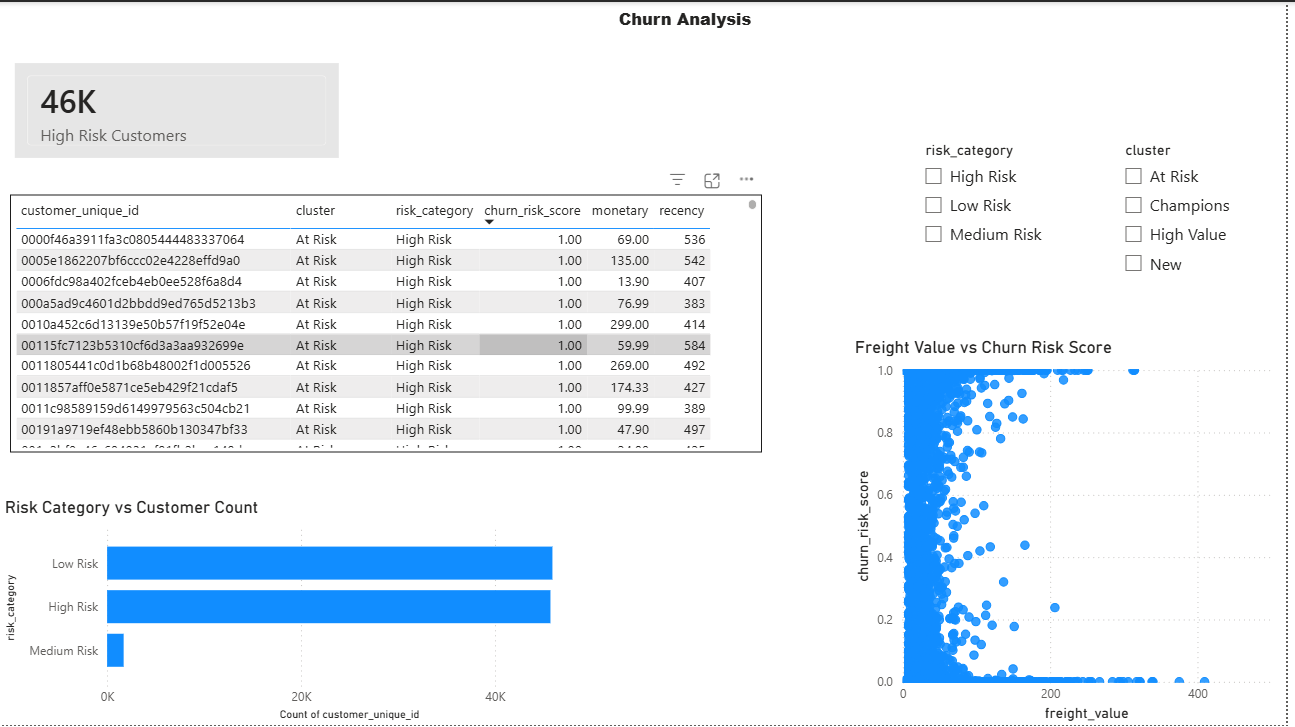

The dashboard page shown, as its layout file describes it:
{"tool":"powerbi","page":{"name":"Churn Analysis","canvas":[1280,720],"ordinal":2},"visuals":[{"type":"cardVisual","fields":{"Data":["customer_churn_risk_scores.High Risk Customers"]},"box":[10,55.7,332.9,104.3],"z":0},{"type":"tableEx","fields":{"Values":["customer_churn_risk_scores.customer_unique_id","customer_churn_risk_scores.cluster","customer_churn_risk_scores.risk_category","customer_churn_risk_scores.churn_risk_score","customer_churn_risk_scores.monetary","customer_churn_risk_scores.recency"]},"box":[10,191.4,748.6,257.1],"z":1},{"type":"clusteredBarChart","title":"Risk Category vs Customer Count","fields":{"Category":["customer_churn_risk_scores.risk_category"],"Y":["CountNonNull(customer_churn_risk_scores.customer_unique_id)"]},"box":[0,492.9,604.3,227.1],"z":2},{"type":"scatterChart","title":"Freight Value vs Churn Risk Score","fields":{"X":["customer_churn_risk_scores.freight_value"],"Y":["customer_churn_risk_scores.churn_risk_score"]},"box":[845.7,332.9,434.3,387.1],"z":3},{"type":"slicer","fields":{"Values":["customer_churn_risk_scores.risk_category"]},"box":[908.6,134.3,154.3,138.6],"z":4},{"type":"slicer","fields":{"Values":["customer_churn_risk_scores.cluster"]},"box":[1107.1,134.3,172.9,161.4],"z":5},{"type":"textbox","box":[494.3,0,375.7,35.7],"z":6}]}

Visuals, with their boxes in screenshot pixels (x1, y1, x2, y2), scaled from the page's 1280x720 canvas onto the 1295x727 screenshot:
cardVisual - customer_churn_risk_scores.High Risk Customers: (x1=10, y1=56, x2=347, y2=162)
tableEx - customer_churn_risk_scores.customer_unique_id x customer_churn_risk_scores.cluster: (x1=10, y1=193, x2=767, y2=453)
"Risk Category vs Customer Count" clusteredBarChart: (x1=0, y1=498, x2=611, y2=726)
"Freight Value vs Churn Risk Score" scatterChart: (x1=856, y1=336, x2=1294, y2=726)
slicer - customer_churn_risk_scores.risk_category: (x1=919, y1=136, x2=1075, y2=276)
slicer - customer_churn_risk_scores.cluster: (x1=1120, y1=136, x2=1294, y2=299)
textbox: (x1=500, y1=0, x2=880, y2=36)
